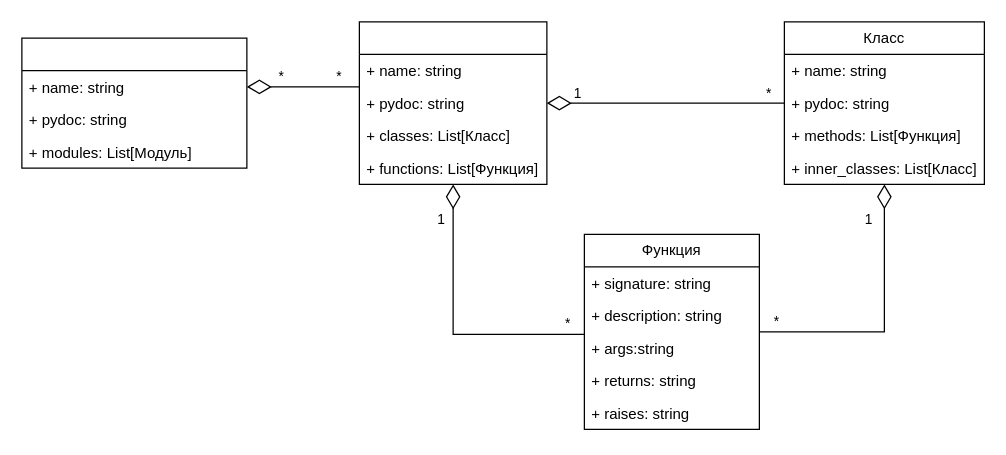
The diagram is 1006 pixels wide and 455 high, and some of its shapes have lost their labels. The box of each missing label's shape, as (x1, y1, x2, y2) in pixels:
Библиотека/Пакет: (21, 37, 247, 168)
Модуль: (358, 21, 547, 184)
